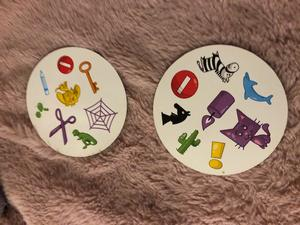bougie: (197, 89, 237, 132)
cactus: (174, 128, 202, 155)
chat: (219, 109, 271, 151)
cheval: (159, 99, 193, 130)
chien: (53, 79, 82, 109)
ciseau: (48, 107, 77, 147)
cle: (78, 60, 101, 96)
crayon: (36, 71, 53, 99)
dauphin: (240, 71, 274, 107)
dinosore: (70, 126, 98, 149)
point_interrogation: (208, 139, 226, 170)
sens_interdit: (168, 69, 200, 101), (55, 55, 77, 77)
tache: (33, 101, 51, 119)
toile: (83, 97, 117, 132)
zebre: (195, 50, 242, 84)
